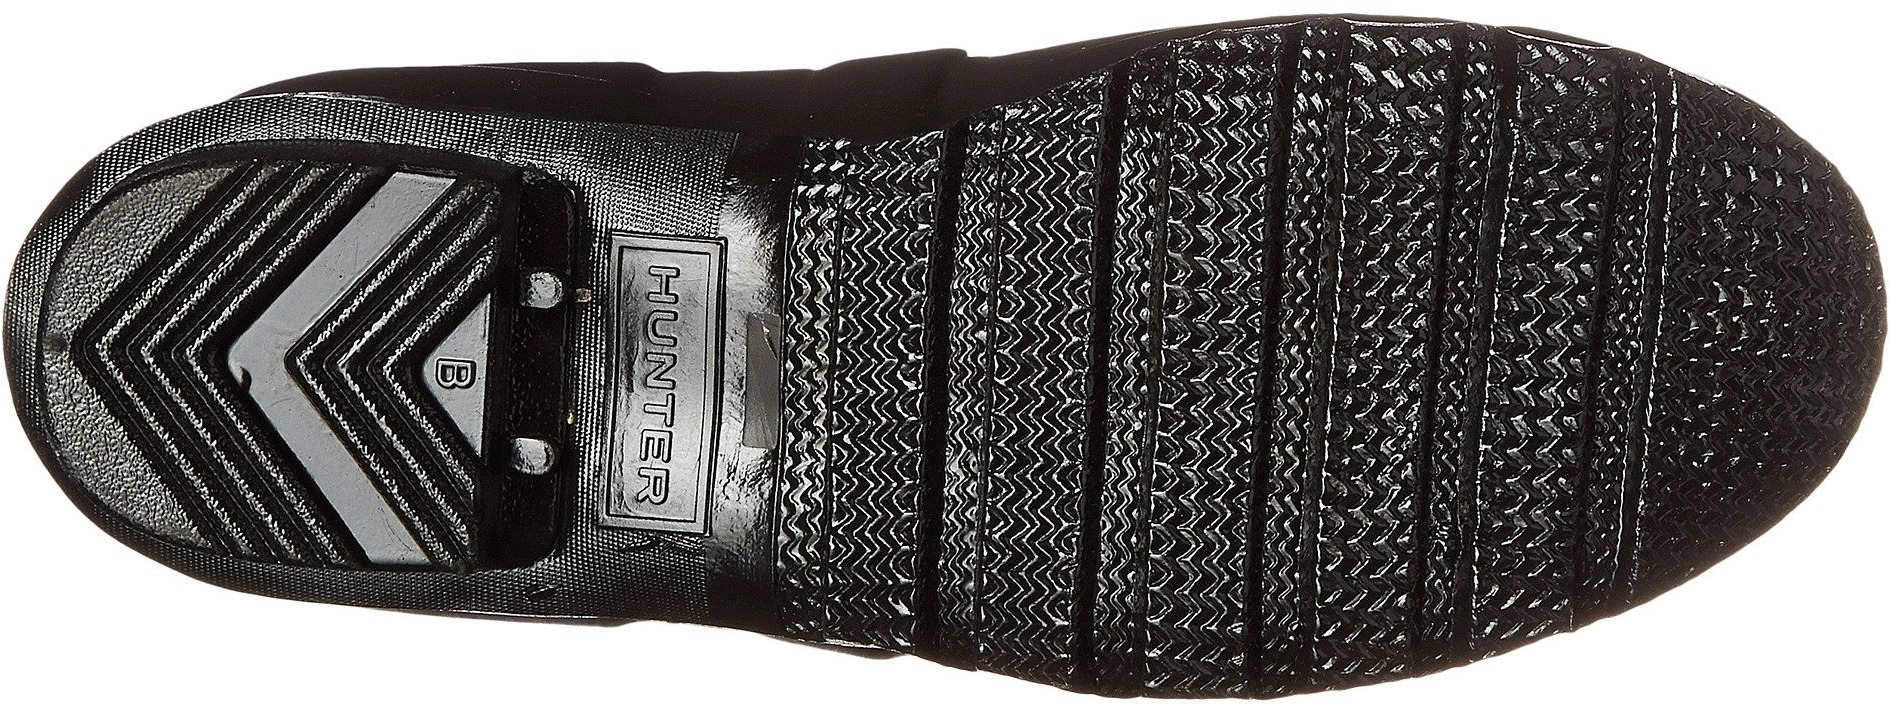chevron: (1271, 71, 1676, 558), (841, 159, 1255, 548), (125, 189, 428, 543)
exclude: (503, 132, 598, 618)
quad: (1271, 71, 1676, 558), (601, 221, 724, 538)
text: (632, 256, 686, 507), (435, 348, 482, 402)
